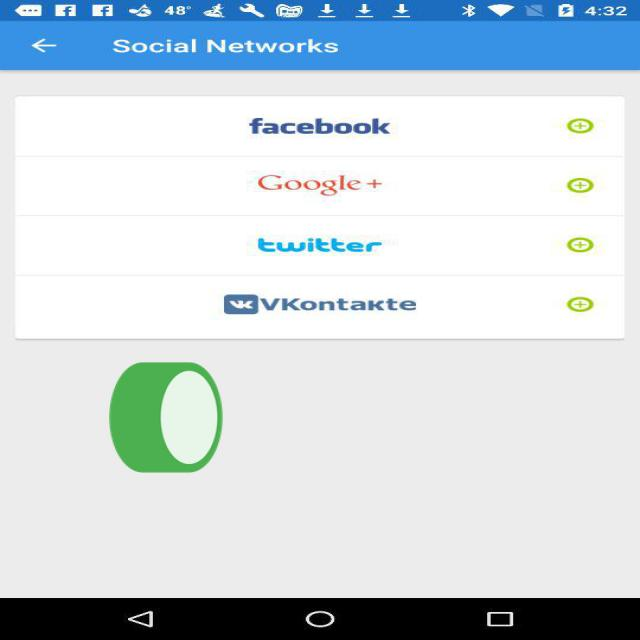social proof: (104, 320, 228, 523)
